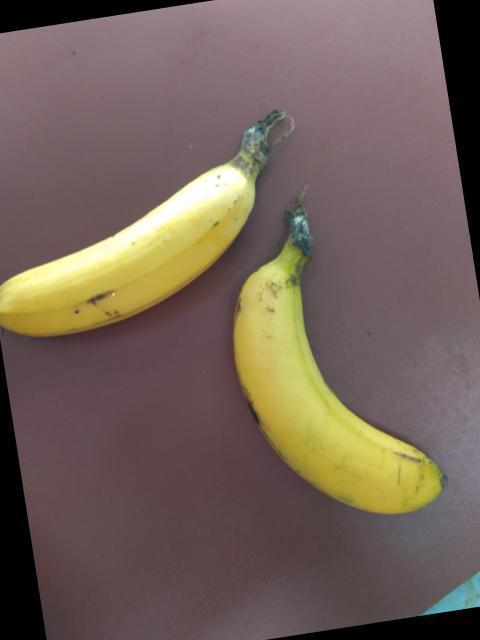freshripe: (222, 253, 456, 528), (0, 160, 241, 347)
